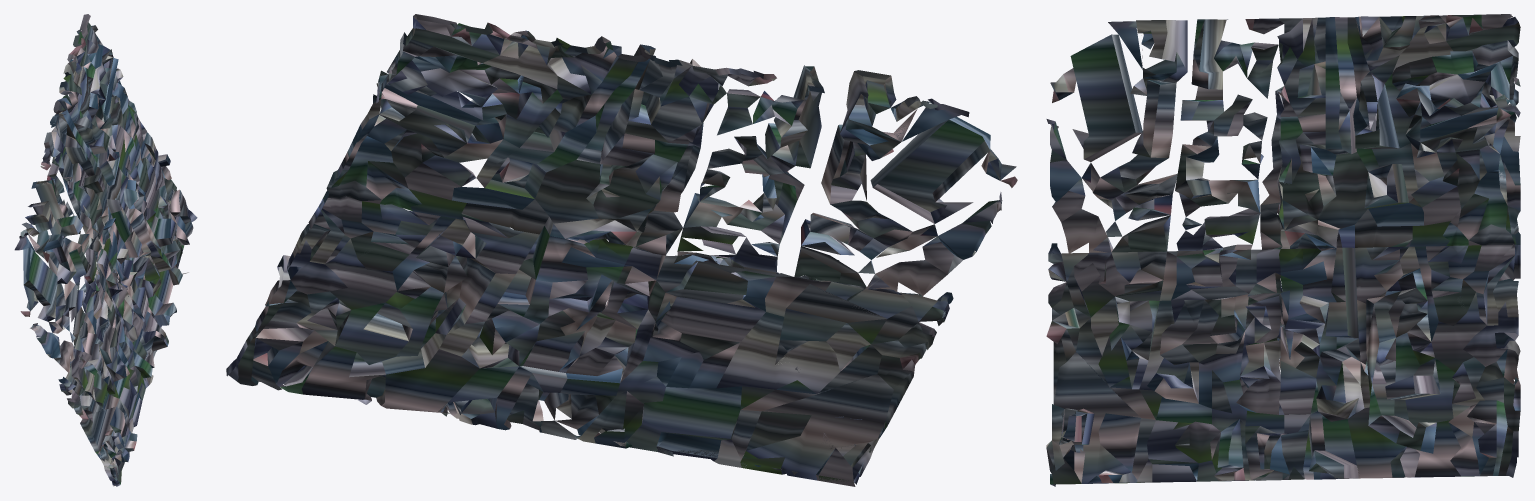
The picture shows the model from 3 angles, left to right: view 1: azimuth 30°, elevation 25°; view 2: azimuth 150°, elevation 25°; view 3: azimuth 270°, elevation 25°; orthographic projection. The views are drawn at different scales.
Parts seen in each view (by area): view 1: node_3043627270436051_mesh0, node_3043627270436051_mesh1; view 2: node_3043627270436051_mesh0, node_3043627270436051_mesh1; view 3: node_3043627270436051_mesh0, node_3043627270436051_mesh1.
Boxes of the visible parts, bbox=[...] form: node_3043627270436051_mesh0: bbox=[14, 14, 197, 486]; node_3043627270436051_mesh1: bbox=[20, 25, 190, 466]; node_3043627270436051_mesh0: bbox=[226, 14, 1002, 486]; node_3043627270436051_mesh1: bbox=[253, 22, 1017, 467]; node_3043627270436051_mesh0: bbox=[1046, 14, 1520, 486]; node_3043627270436051_mesh1: bbox=[1046, 15, 1520, 483].
Size of the model in its own units: 560 by 586 by 448.
Materials: 2 (2 with a texture image).
